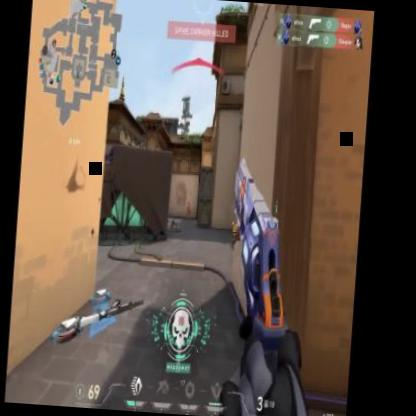enemy: (186, 200, 192, 219)
enemy_head: (188, 201, 190, 205)
